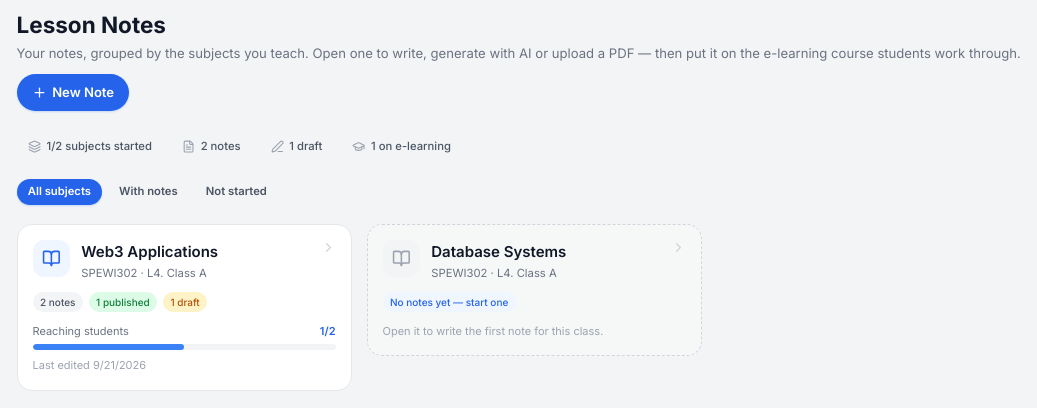
Scenario: LessonNotesListPage — subject-first browsing and e-learning linkage › filters the subject grid down to the ones not started
Expected: the heading "Web3 Applications" is shown, [81,242,218,261]
Click the button "Not started" at (236, 192), box [194,179,278,205]
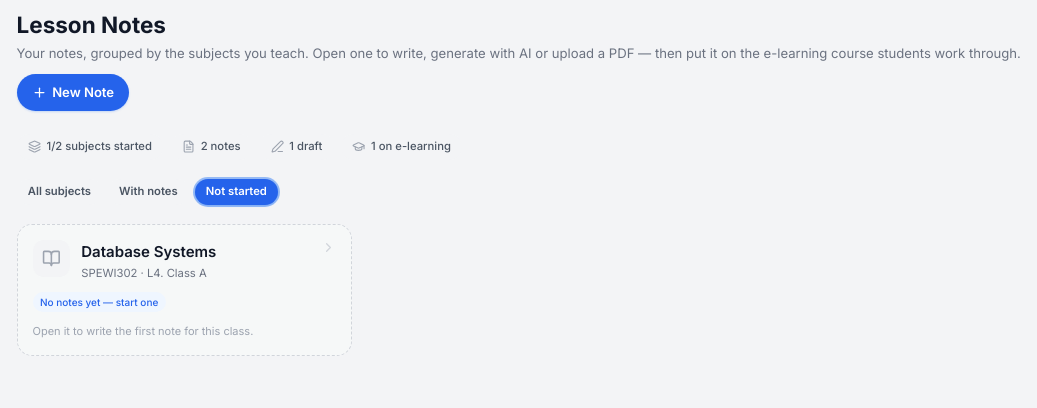
Expected: the heading "Database Systems" is shown, [81,242,216,261]
Result: the button "Web3 Applications" is gone
